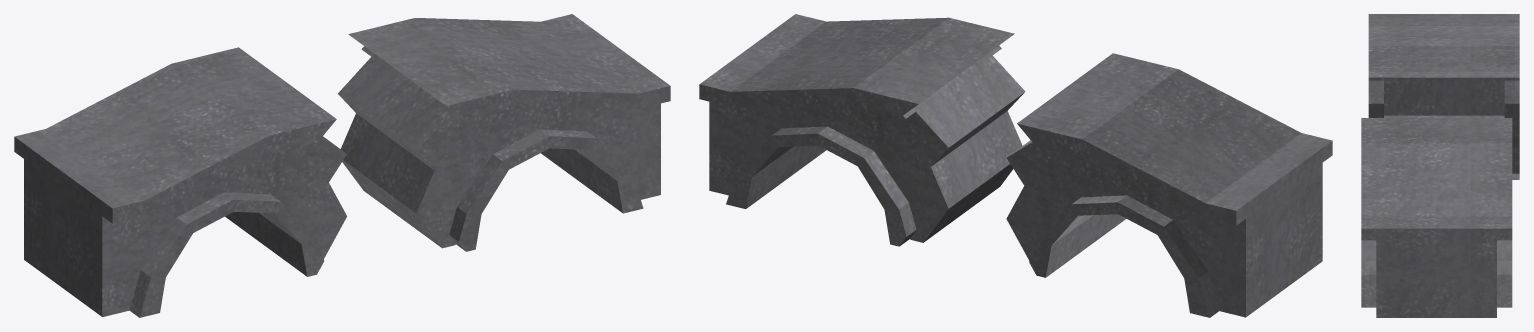
The model's file is Bridge 1 - Level 1.FBX.
The picture shows the model from 3 angles, left to right: view 1: azimuth 30°, elevation 25°; view 2: azimuth 150°, elevation 25°; view 3: azimuth 270°, elevation 25°; orthographic projection. The views are drawn at different scales.
Visible parts, largest first — view 1: Bridge 1; view 2: Bridge 1; view 3: Bridge 1.
Boxes of the visible parts, bbox=[...] form: Bridge 1: bbox=[14, 14, 670, 317]; Bridge 1: bbox=[699, 14, 1332, 317]; Bridge 1: bbox=[1361, 14, 1519, 317].
Size of the model in its own units: 112 by 30.78 by 35.92.
1 material, 1 textured.
